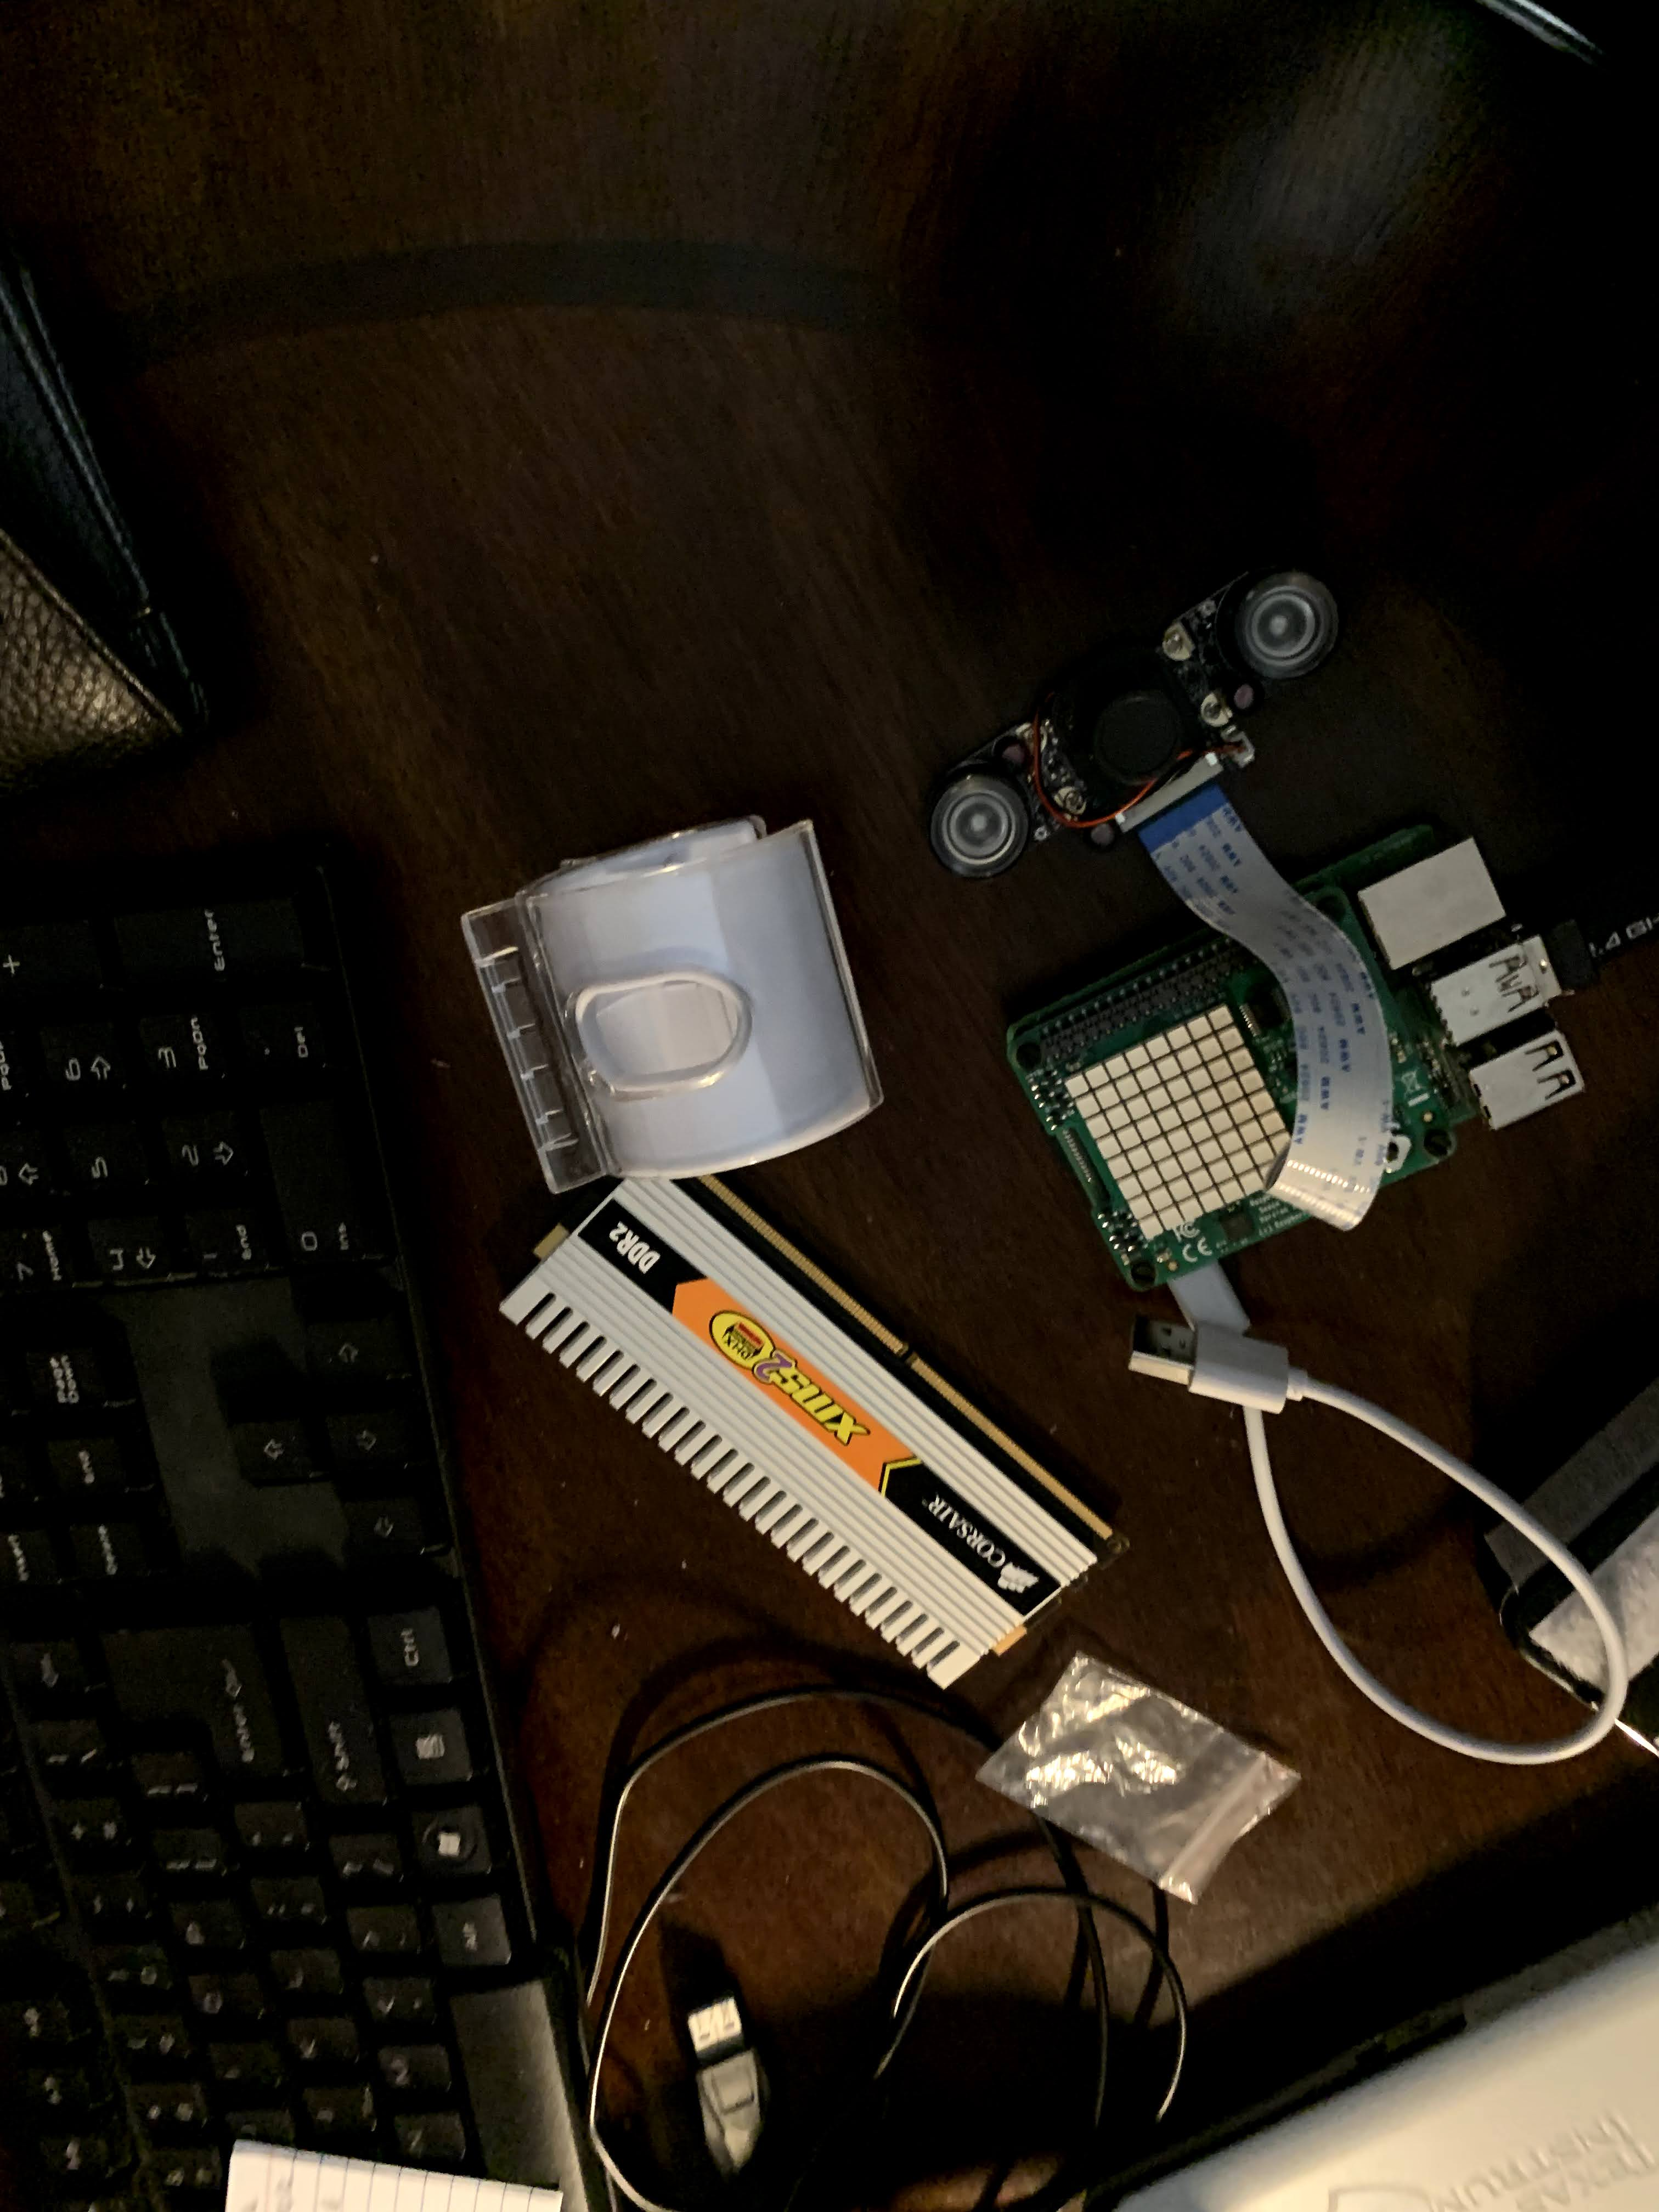Space-debris-medium: (458, 1153, 1138, 1714)
